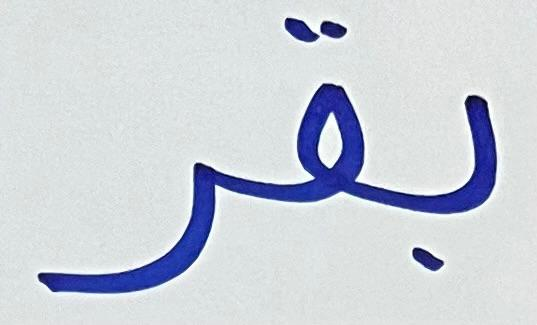beh: (377, 57, 519, 281)
qaf: (235, 10, 375, 209)
reh: (26, 154, 227, 299)
